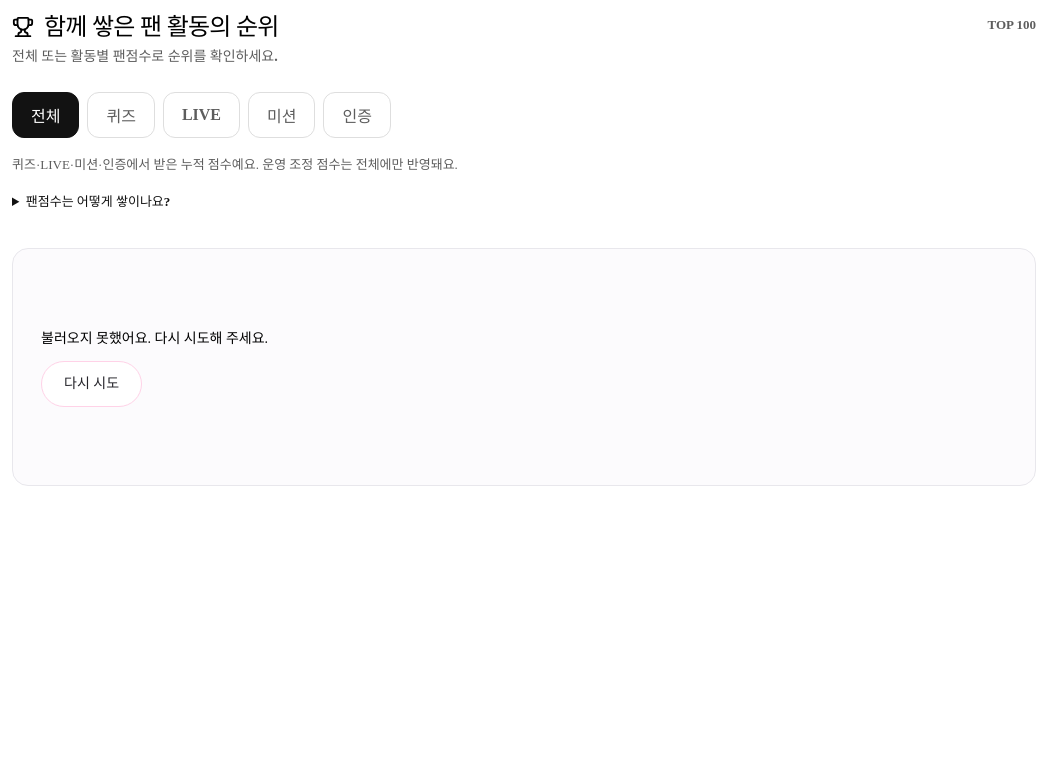
Scenario: offers retry without flashing gathering on a transient API failure
Click the button "다시 시도": (92, 384) 41,361 -> 142,407
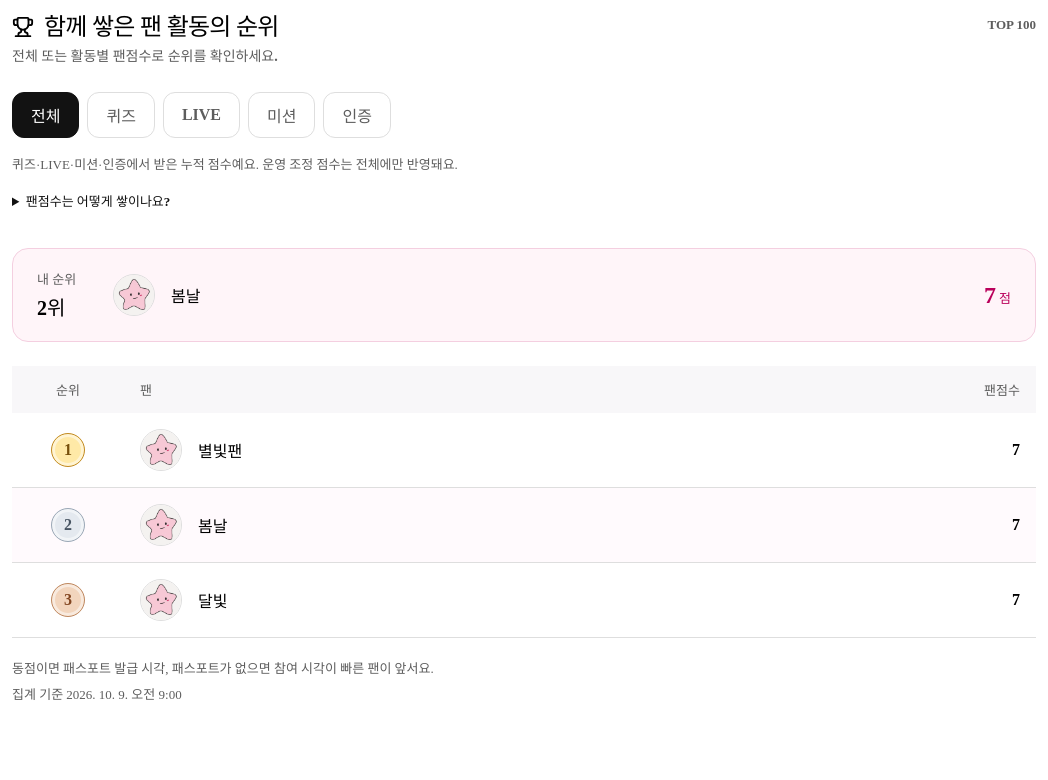
Expected: the table is shown, 12,366 -> 1036,638
